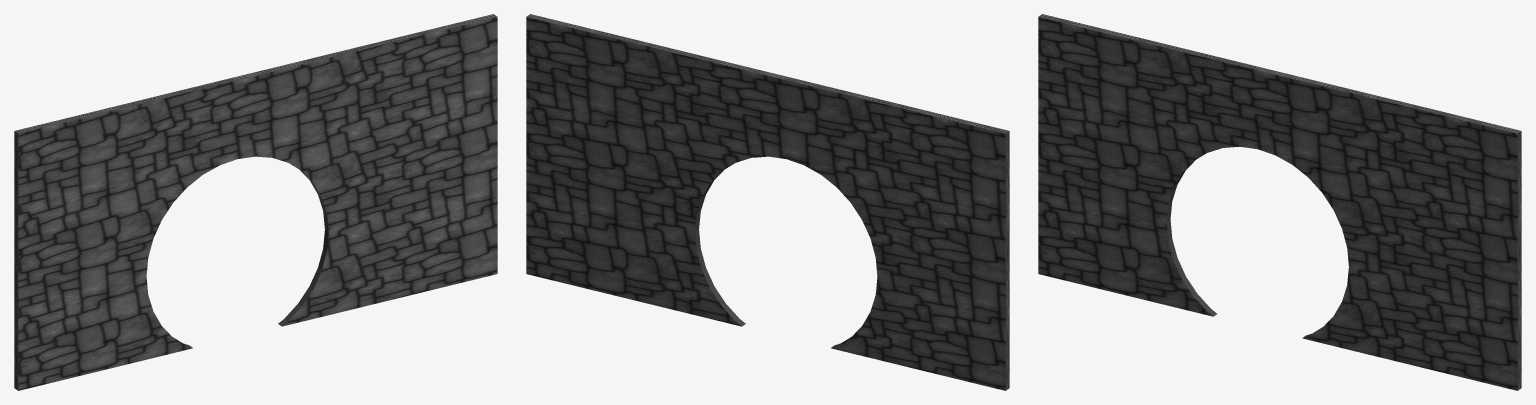
Rendered from MuSymbole.fbx.
The picture shows the model from 3 angles, left to right: view 1: azimuth 30°, elevation 25°; view 2: azimuth 150°, elevation 25°; view 3: azimuth 330°, elevation 25°; orthographic projection.
Visible parts, largest first — view 1: Cube.001; view 2: Cube.001; view 3: Cube.001.
Part boxes in pixels (<box>): Cube.001: <box>14,14,497,390</box>; Cube.001: <box>526,14,1009,390</box>; Cube.001: <box>1038,14,1521,390</box>.
Bounding box in the file's own units: 4993 × 2560 × 70.88.
